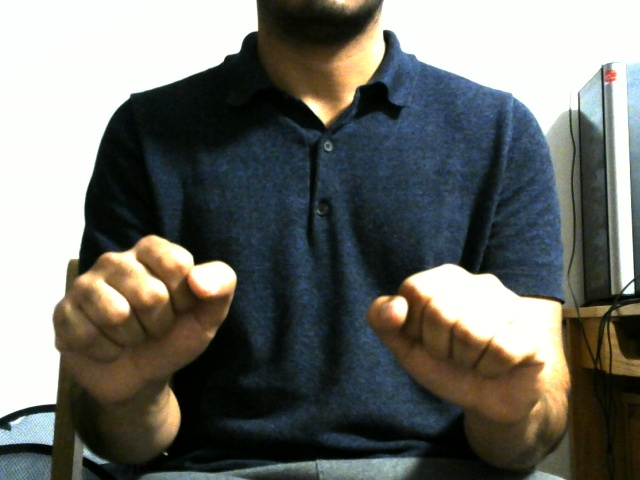can: (17, 217, 579, 464)
